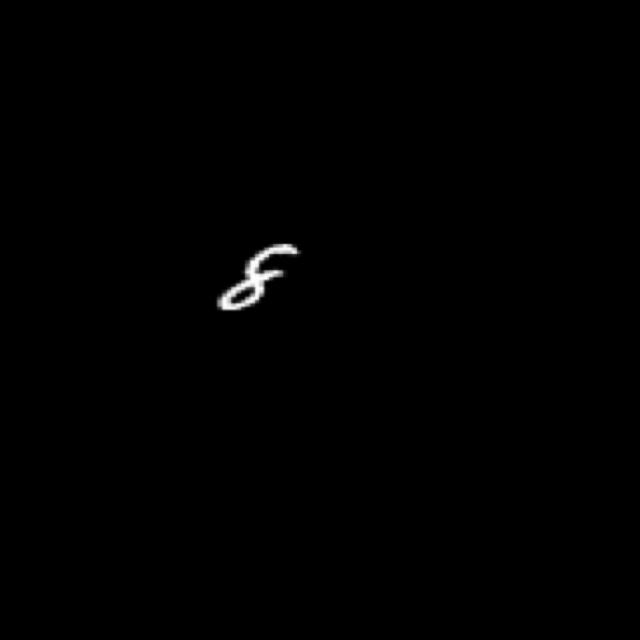eight -8-: (209, 239, 299, 315)
